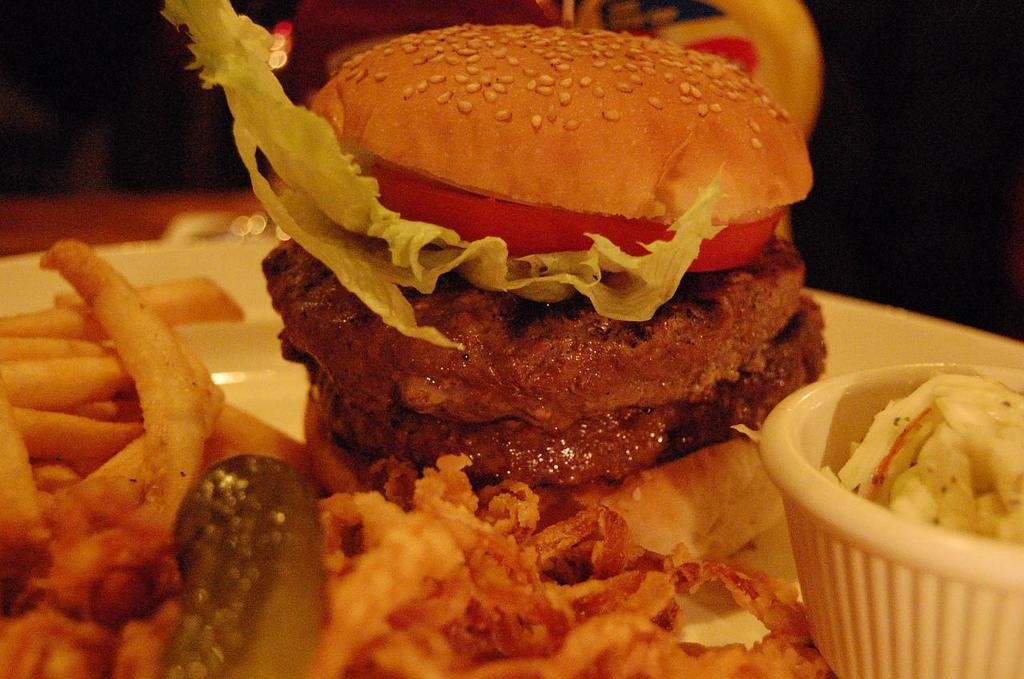French fries: (0, 210, 236, 605)
